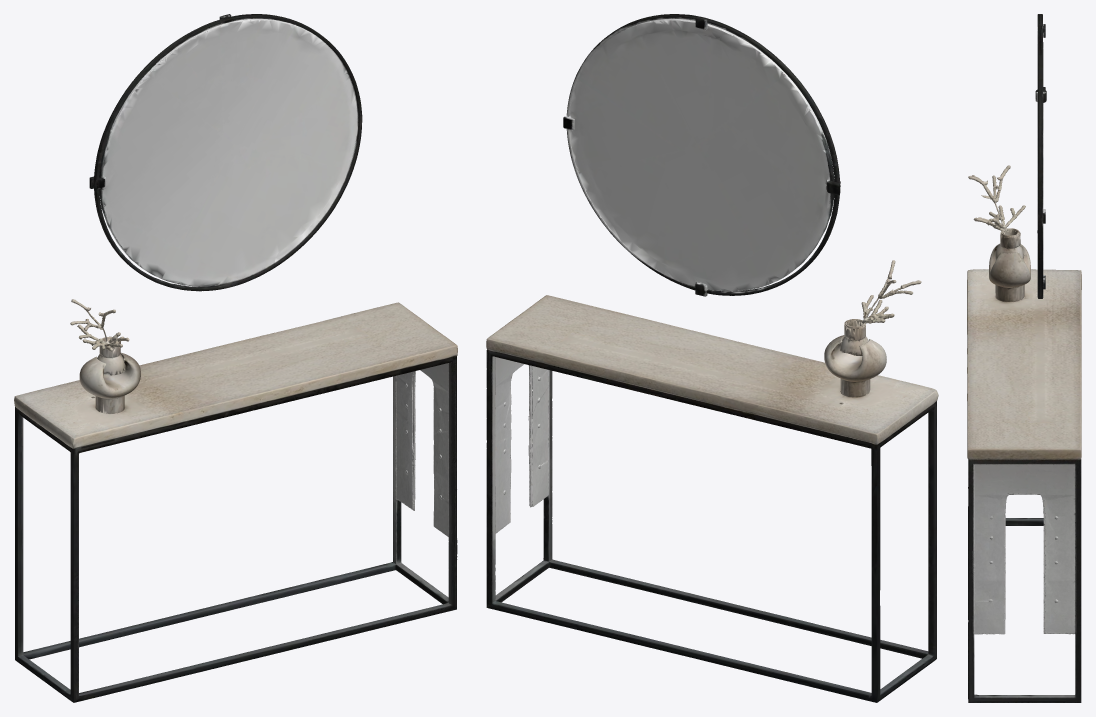
Rendered from console.glb.
3 views of the same model, side by side, from view 1: azimuth 30°, elevation 25°; view 2: azimuth 150°, elevation 25°; view 3: azimuth 270°, elevation 25° (orthographic). The views are drawn at different scales.
Visible parts, largest first — view 1: tripo_node_f488a0cf-2ba7-4a7c-b45f-8e1fbdd42099; view 2: tripo_node_f488a0cf-2ba7-4a7c-b45f-8e1fbdd42099; view 3: tripo_node_f488a0cf-2ba7-4a7c-b45f-8e1fbdd42099.
Boxes of the visible parts, bbox=[...] form: tripo_node_f488a0cf-2ba7-4a7c-b45f-8e1fbdd42099: bbox=[14, 14, 457, 702]; tripo_node_f488a0cf-2ba7-4a7c-b45f-8e1fbdd42099: bbox=[486, 14, 938, 702]; tripo_node_f488a0cf-2ba7-4a7c-b45f-8e1fbdd42099: bbox=[967, 14, 1081, 702].
Bounding box in the file's own units: 0.6464 × 0.9787 × 0.1735.
1 material, 1 textured.
